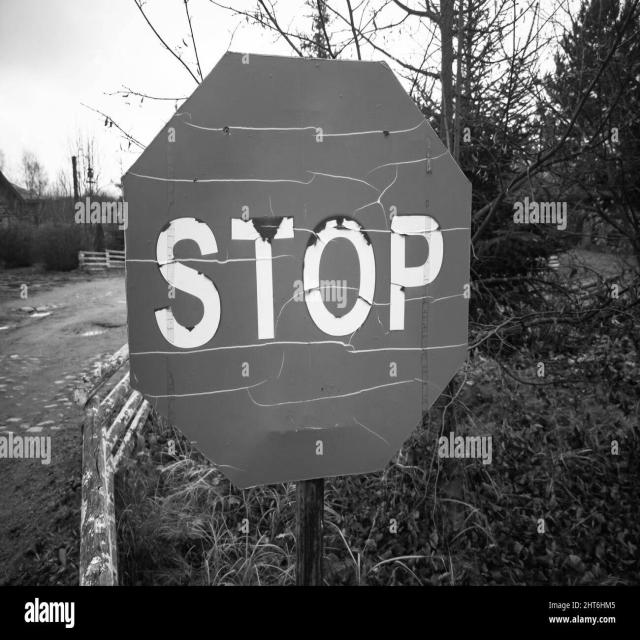Stop-sign: (98, 45, 494, 488)
